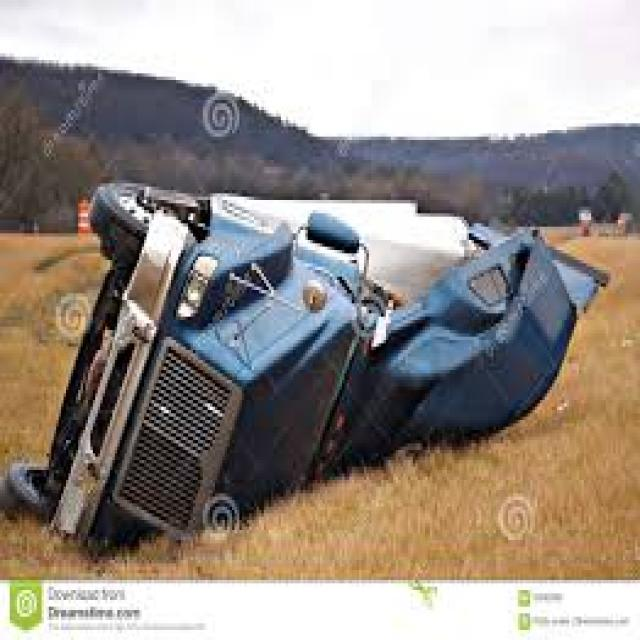accident: (0, 108, 586, 580)
